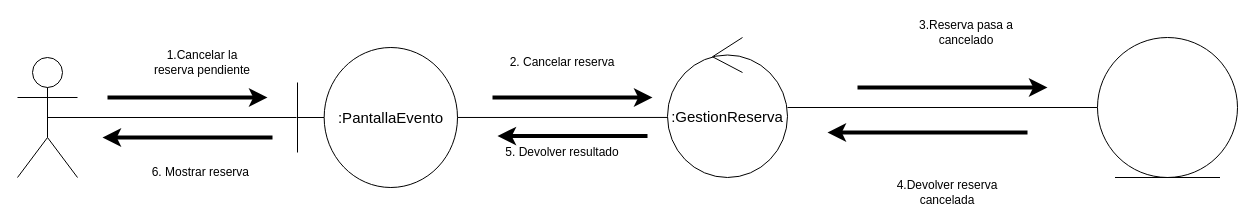
Image size: 1255x224. Some labels were removed from this diagram. Here are the shapes that lost their labels. From the top down, the box of each, then its label:
(16, 56, 78, 178): :Estudiante
(1096, 36, 1238, 178): :Reserva
